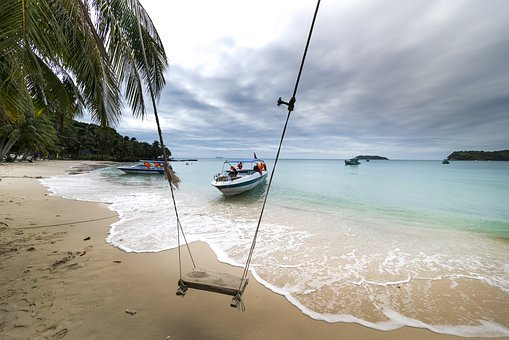beach: (11, 159, 503, 340)
sky: (158, 8, 509, 162)
